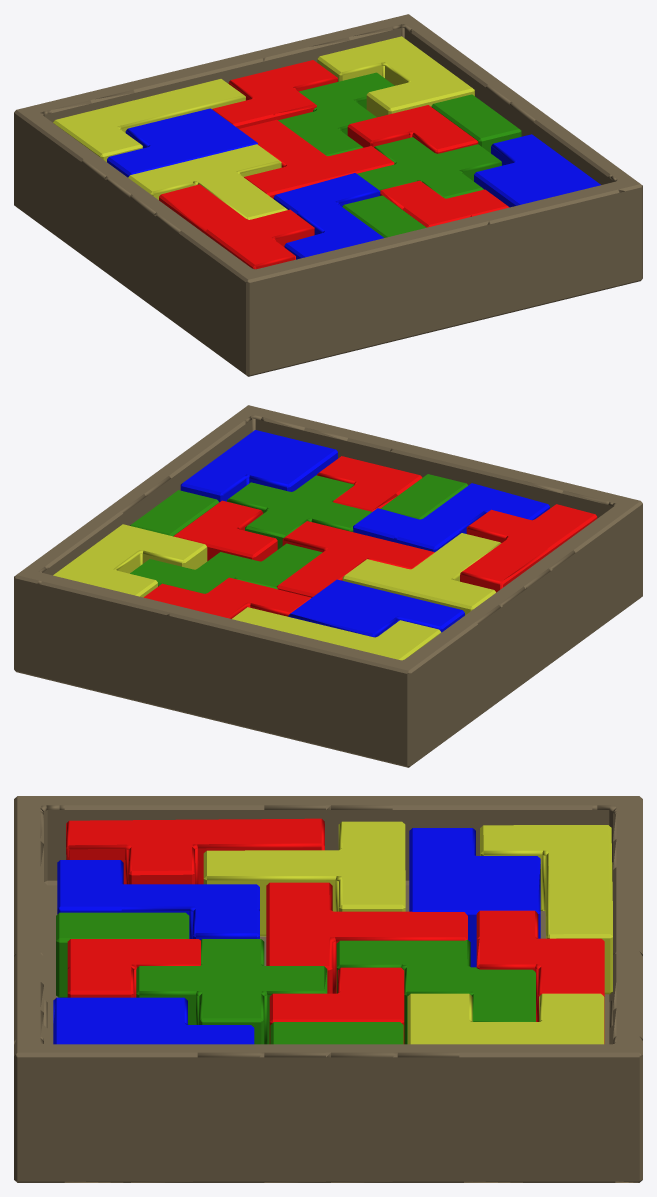
The model's file is puzzleCOMPLETATO.fbx.
3 renders of one model, top to bottom at view 1: azimuth 30°, elevation 25°; view 2: azimuth 150°, elevation 25°; view 3: azimuth 270°, elevation 25°, orthographic. The views are drawn at different scales.
Parts seen in each view (by area): view 1: pCube1_wood_grain_0.001, pCube2_Yellow_0.001, pCube5_red_0.001, pCube4_Yellow_0.001, pCube12_Yellow_0.001, pCube6_white_0.001, pCube14_white_0.001, pCube8_white_0.001, pCube7_red_0.001, pCube3_green_0.001, pCube13_red_0.001, pCube9_green_0.001 (+4 smaller); view 2: pCube1_wood_grain_0.001, pCube14_white_0.001, pCube5_red_0.001, pCube12_Yellow_0.001, pCube2_Yellow_0.001, pCube8_white_0.001, pCube6_white_0.001, pCube7_red_0.001, pCube3_green_0.001, pCube9_green_0.001, pCube4_Yellow_0.001, pCube13_red_0.001 (+4 smaller); view 3: pCube1_wood_grain_0.001, pCube5_red_0.001, pCube12_Yellow_0.001, pCube4_Yellow_0.001, pCube3_green_0.001, pCube7_red_0.001, pCube6_white_0.001, pCube8_white_0.001, pCube9_green_0.001, pCube2_Yellow_0.001, pCube14_white_0.001, pCube13_red_0.001 (+4 smaller).
Part boxes in pixels (x1,y1,x2,y2): pCube1_wood_grain_0.001: [14, 14, 642, 376]; pCube2_Yellow_0.001: [317, 36, 474, 117]; pCube5_red_0.001: [159, 184, 314, 269]; pCube4_Yellow_0.001: [53, 79, 245, 161]; pCube12_Yellow_0.001: [128, 144, 287, 219]; pCube6_white_0.001: [107, 108, 257, 177]; pCube14_white_0.001: [474, 134, 600, 207]; pCube8_white_0.001: [273, 173, 383, 259]; pCube7_red_0.001: [239, 119, 394, 198]; pCube3_green_0.001: [357, 137, 501, 198]; pCube13_red_0.001: [212, 60, 337, 128]; pCube9_green_0.001: [278, 72, 394, 156]; pCube1_wood_grain_0.001: [14, 405, 642, 767]; pCube14_white_0.001: [180, 430, 337, 502]; pCube5_red_0.001: [460, 504, 597, 592]; pCube12_Yellow_0.001: [342, 533, 501, 615]; pCube2_Yellow_0.001: [53, 524, 207, 597]; pCube8_white_0.001: [353, 483, 549, 552]; pCube6_white_0.001: [288, 579, 464, 637]; pCube7_red_0.001: [276, 521, 434, 597]; pCube3_green_0.001: [227, 475, 371, 549]; pCube9_green_0.001: [130, 543, 322, 593]; pCube4_Yellow_0.001: [232, 607, 441, 660]; pCube13_red_0.001: [143, 577, 310, 618]; pCube1_wood_grain_0.001: [14, 796, 642, 1182]; pCube5_red_0.001: [66, 818, 324, 884]; pCube12_Yellow_0.001: [203, 821, 405, 936]; pCube4_Yellow_0.001: [480, 825, 612, 994]; pCube3_green_0.001: [136, 939, 327, 1044]; pCube7_red_0.001: [266, 882, 467, 993]; pCube6_white_0.001: [409, 828, 540, 967]; pCube8_white_0.001: [57, 860, 259, 940]; pCube9_green_0.001: [336, 939, 535, 1044]; pCube2_Yellow_0.001: [407, 993, 604, 1044]; pCube14_white_0.001: [53, 997, 254, 1044]; pCube13_red_0.001: [476, 910, 604, 1043].
Size of the model in its own units: 46.29 by 10.82 by 47.4.
